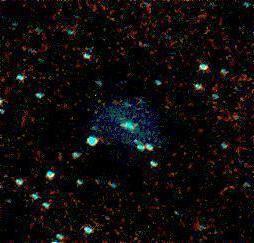star: (126, 86, 156, 116)
